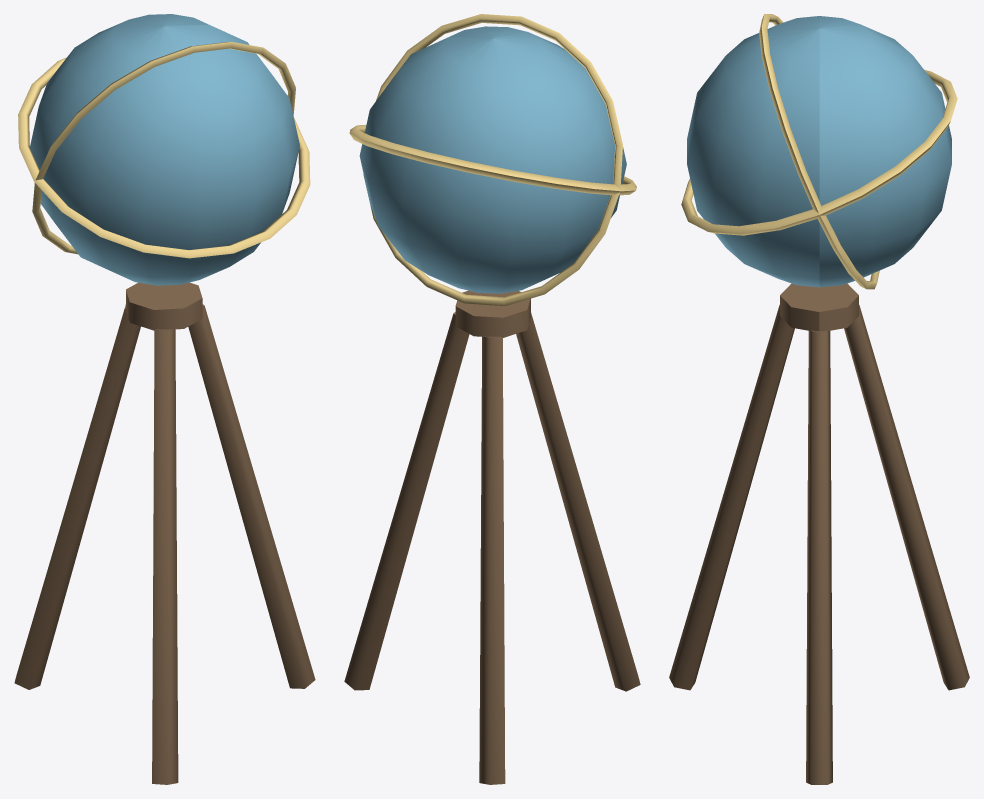
The model's file is kajuete_globus.glb.
3 renders of one model, left to right at view 1: azimuth 30°, elevation 25°; view 2: azimuth 150°, elevation 25°; view 3: azimuth 270°, elevation 25°, orthographic.
Visible parts, largest first — view 1: G_kajuete_globus; view 2: G_kajuete_globus; view 3: G_kajuete_globus.
Part boxes in pixels (x1,y1,x2,y2): G_kajuete_globus: (14,14,315,784); G_kajuete_globus: (344,14,640,784); G_kajuete_globus: (669,14,969,784).
Bounding box in the file's own units: 0.5645 × 1.35 × 0.5312.
